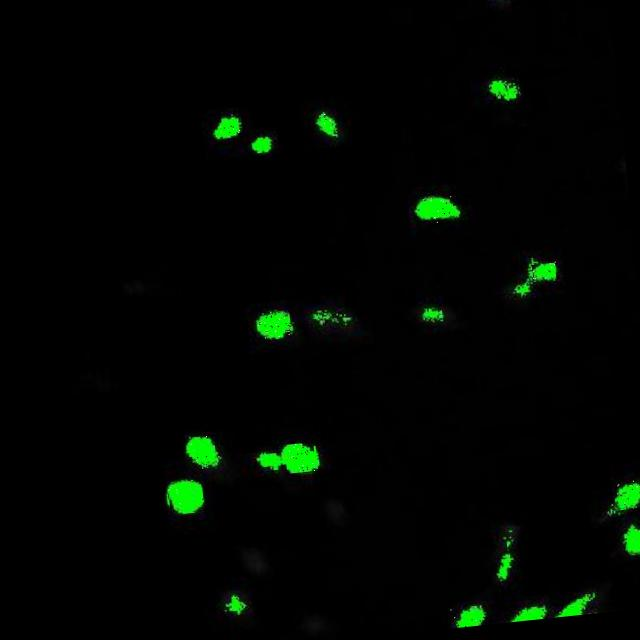Cell: (165, 475, 204, 514), (412, 192, 454, 224), (182, 433, 218, 469), (254, 308, 290, 340), (282, 438, 314, 473), (611, 476, 640, 509), (448, 604, 484, 628), (487, 75, 518, 101), (216, 112, 240, 140), (623, 518, 640, 556), (529, 260, 556, 281), (318, 112, 334, 137)
